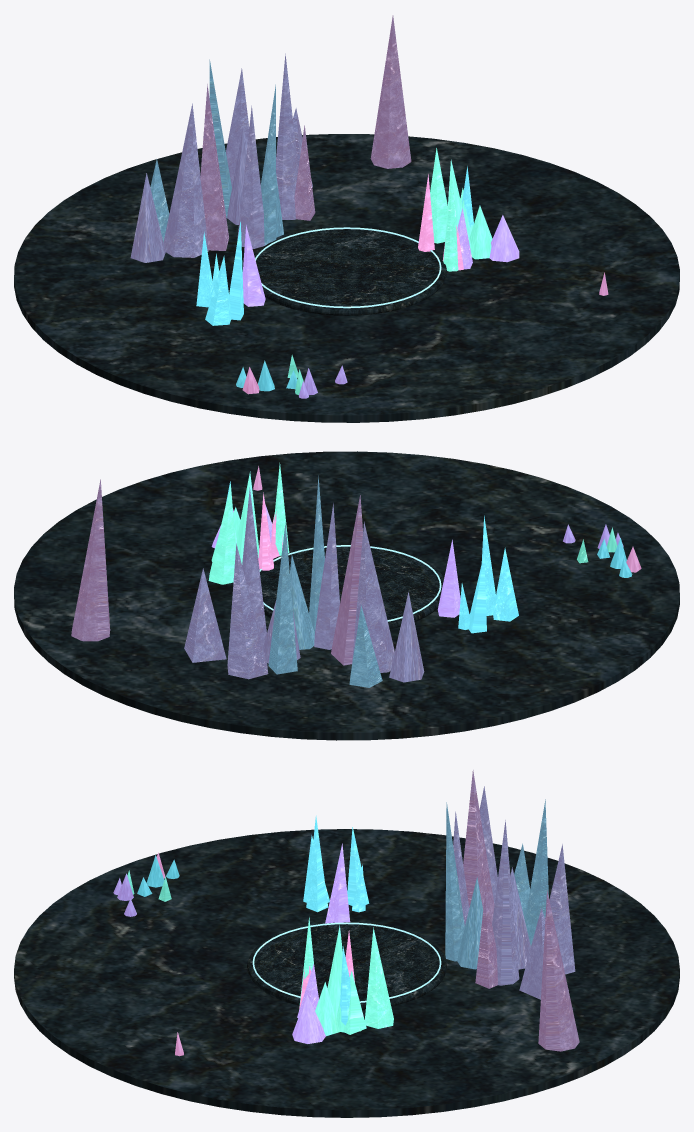
File: crystal_stage_v3.glb
3 views of the same model, one above another, from view 1: azimuth 30°, elevation 25°; view 2: azimuth 150°, elevation 25°; view 3: azimuth 270°, elevation 25° (orthographic).
Visible parts, largest first — view 1: Cylinder, Cylinder.001, crystal.013, crystal.004, crystal.009, crystal, crystal.006, crystal.011, crystal.007, crystal.012, crystal.003, crystal.005 (+12 smaller); view 2: Cylinder, Cylinder.001, crystal.004, crystal.012, crystal.013, crystal.009, crystal.005, crystal.010, crystal.006, crystal.011, crystal, crystal.024 (+11 smaller); view 3: Cylinder, Cylinder.001, crystal.004, crystal, crystal.009, crystal.007, crystal.012, crystal.024, crystal.005, crystal.003, crystal.001, crystal.010 (+13 smaller).
Part boxes in pixels (left/top/right/bottom): Cylinder: left=14, top=134, right=679, bottom=422; Cylinder.001: left=254, top=227, right=446, bottom=315; crystal.013: left=163, top=103, right=208, bottom=257; crystal.004: left=370, top=15, right=411, bottom=168; crystal.009: left=200, top=84, right=228, bottom=250; crystal: left=276, top=53, right=298, bottom=219; crystal.006: left=237, top=105, right=264, bottom=248; crystal.011: left=130, top=173, right=165, bottom=262; crystal.007: left=260, top=84, right=276, bottom=245; crystal.012: left=226, top=68, right=249, bottom=186; crystal.003: left=294, top=125, right=315, bottom=220; crystal.005: left=209, top=59, right=231, bottom=218; Cylinder: left=14, top=451, right=679, bottom=740; Cylinder.001: left=260, top=545, right=443, bottom=628; crystal.004: left=71, top=479, right=110, bottom=641; crystal.012: left=227, top=543, right=268, bottom=679; crystal.013: left=352, top=521, right=394, bottom=672; crystal.009: left=331, top=495, right=362, bottom=665; crystal.005: left=268, top=523, right=297, bottom=674; crystal.010: left=184, top=568, right=226, bottom=662; crystal.006: left=314, top=503, right=339, bottom=649; crystal.011: left=389, top=592, right=424, bottom=682; crystal: left=242, top=487, right=266, bottom=646; crystal.024: left=208, top=484, right=235, bottom=584; Cylinder: left=14, top=829, right=679, bottom=1117; Cylinder.001: left=247, top=922, right=446, bottom=1010; crystal.004: left=538, top=890, right=579, bottom=1051; crystal: left=492, top=820, right=519, bottom=985; crystal.009: left=463, top=770, right=494, bottom=923; crystal.007: left=445, top=802, right=464, bottom=961; crystal.012: left=545, top=844, right=575, bottom=974; crystal.024: left=364, top=927, right=393, bottom=1028; crystal.005: left=525, top=799, right=548, bottom=945; crystal.003: left=475, top=890, right=497, bottom=988; crystal.001: left=457, top=877, right=483, bottom=969; crystal.010: left=519, top=908, right=568, bottom=999.
Bounding box in the file's own units: 16 × 4.53 × 16.
Materials: 43 (43 with a texture image).
